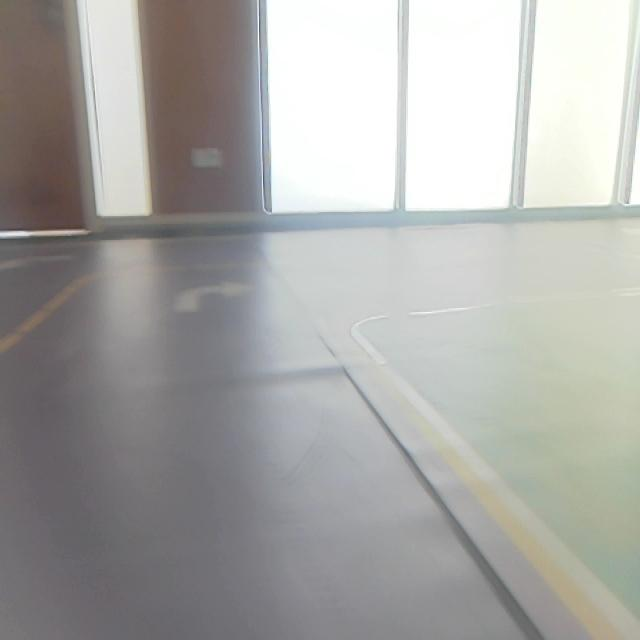left_lane: (0, 276, 84, 357)
right_lane: (349, 335, 640, 638)
